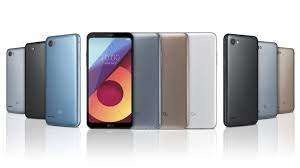lg: (84, 28, 134, 133)
